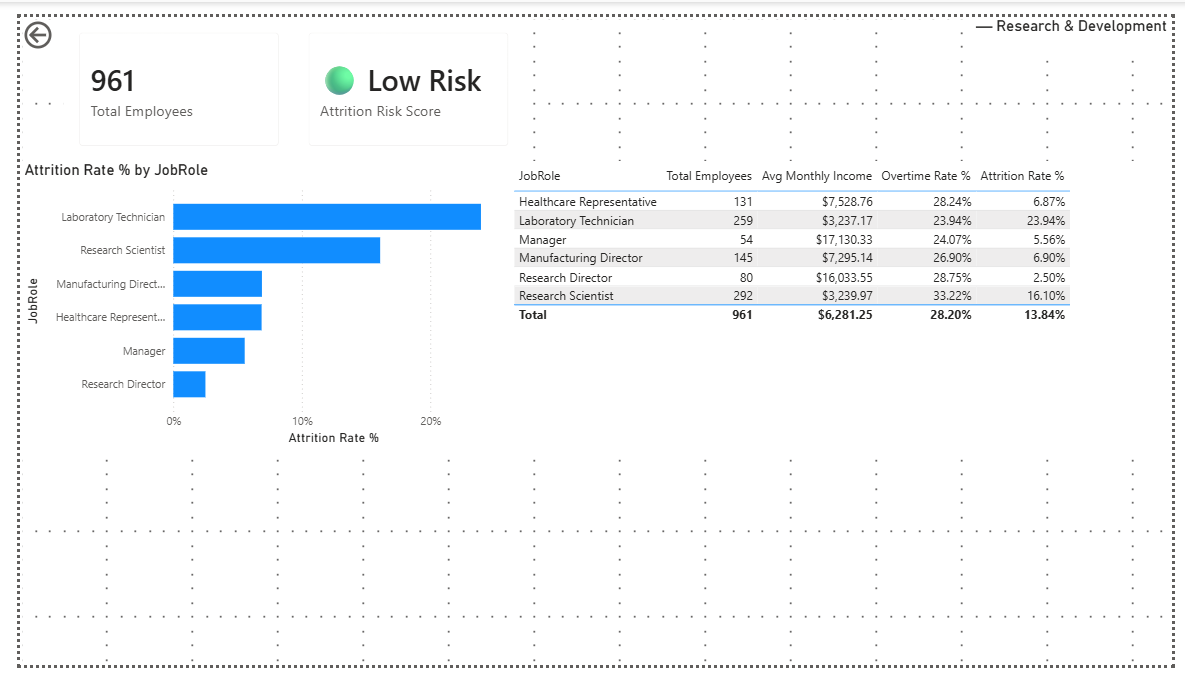

The page's visual inventory and layout, read from the dashboard file:
{"tool":"powerbi","page":{"name":"Department Drillthrough","canvas":[1280,720],"ordinal":4},"visuals":[{"type":"actionButton","box":[0,0,100,40],"z":0},{"type":"cardVisual","fields":{"Data":["_Measures.Total Employees"]},"box":[48,0,256,160],"z":1000},{"type":"clusteredBarChart","fields":{"Y":["_Measures.Attrition Rate %"],"Category":["DimJobRole.JobRole"]},"box":[0,160,544,320],"z":2000},{"type":"tableEx","fields":{"Values":["DimJobRole.JobRole","_Measures.Total Employees","_Measures.Avg Monthly Income","_Measures.Overtime Rate %","_Measures.Attrition Rate %"]},"box":[544,160,736,320],"z":3000},{"type":"cardVisual","fields":{"Data":["_Measures.Attrition Risk Score"]},"box":[304,0,256,160],"z":4000},{"type":"textbox","box":[1056,0,224,48],"z":5000}]}

Visuals, with their boxes in screenshot pixels (x1, y1, x2, y2), scaled from the page's 1280x720 canvas onto the 1185x676 screenshot:
actionButton: 0 0 93 38
cardVisual - _Measures.Total Employees: 44 0 281 150
clusteredBarChart - _Measures.Attrition Rate % x DimJobRole.JobRole: 0 150 504 451
tableEx - DimJobRole.JobRole x _Measures.Total Employees: 504 150 1184 451
cardVisual - _Measures.Attrition Risk Score: 281 0 518 150
textbox: 978 0 1184 45
